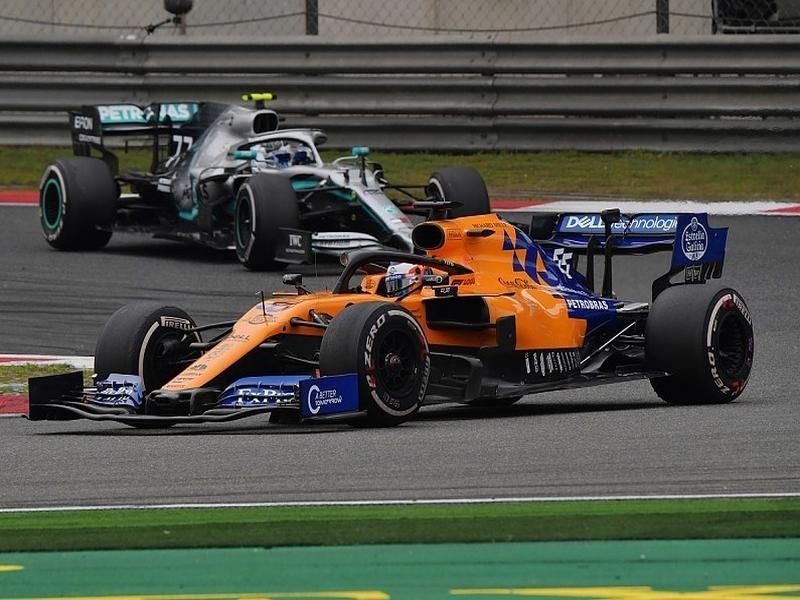f1: (66, 197, 800, 441), (29, 63, 511, 273)
